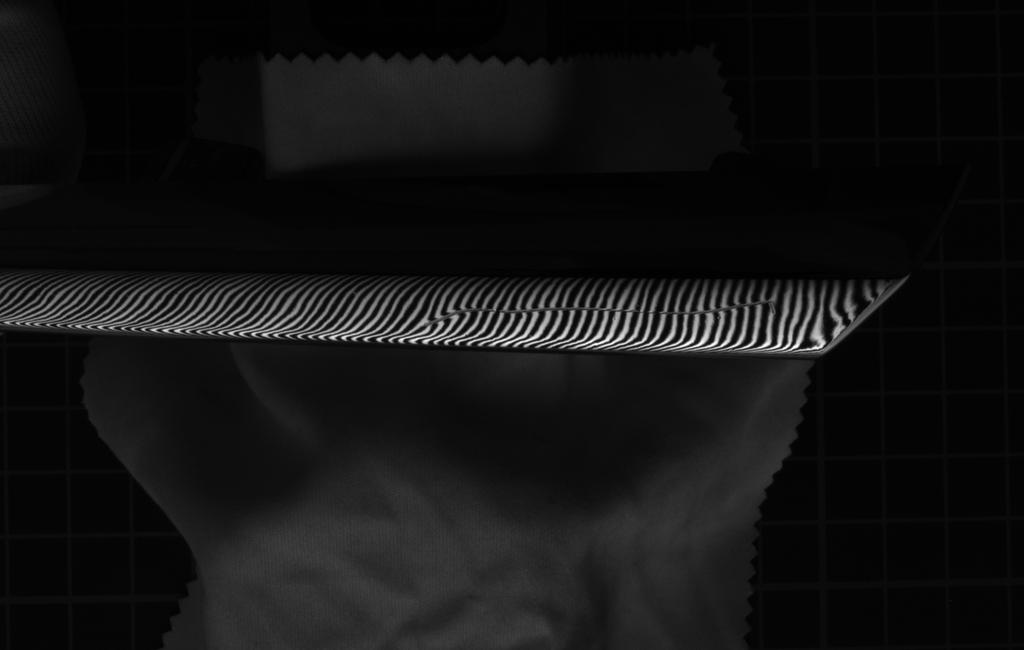Scratch: (411, 291, 801, 332)
